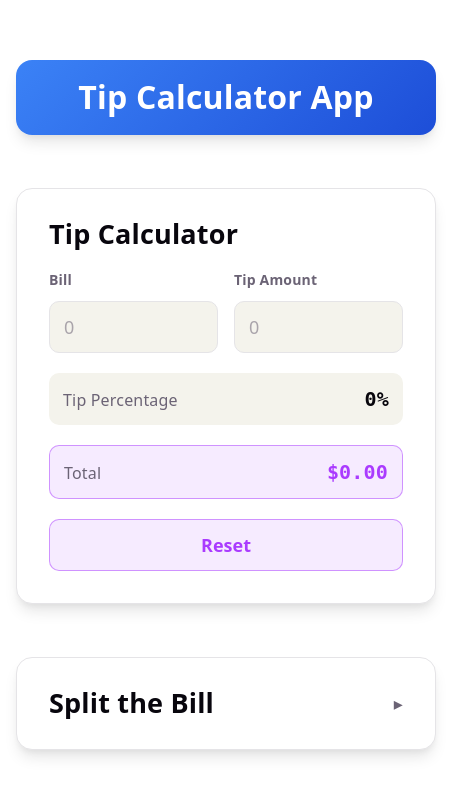
Test: App › recalculates per-person amounts when the number of people changes
The width and height of the screenshot is (453, 795).
Type "100" into the field labelled "Bill" at (134, 327), box [49,301,218,353]
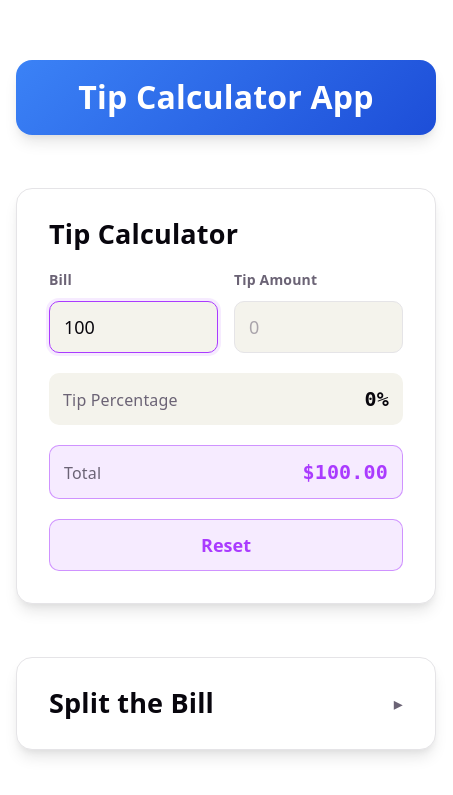
Type "20" into the field labelled "Tip Amount" at (318, 327), box [234,301,403,353]
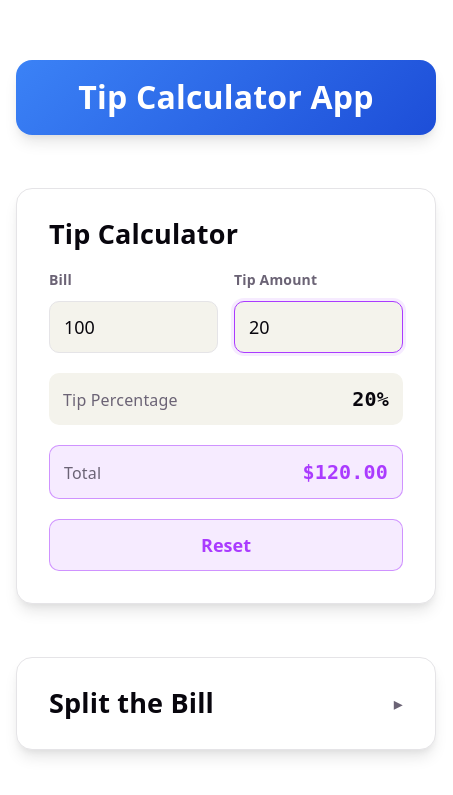
Click the heading "Split the Bill" at (132, 703), box [49,684,214,721]
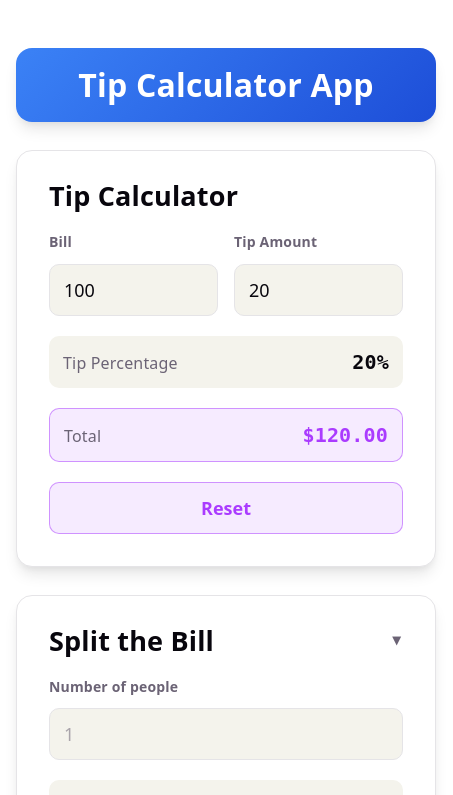
Type "4" into the field labelled "Number of people" at (226, 734), box [49,708,403,760]
(page scrolled)
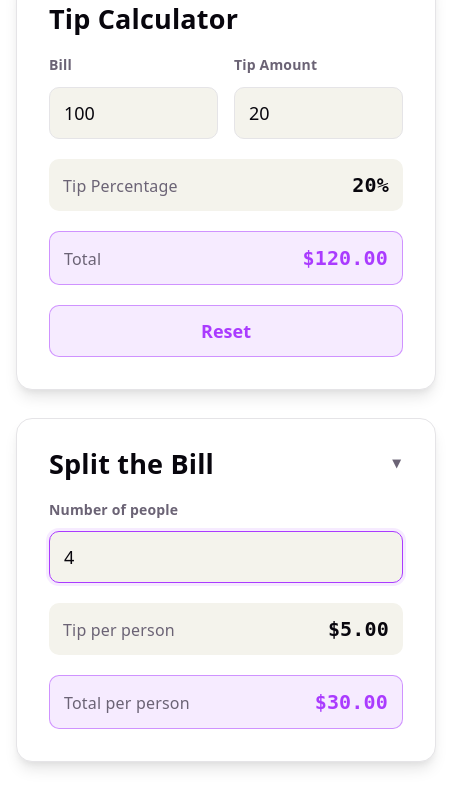
Now the text "$5.00" is shown, box [328,615,389,643]
Now the text "$30.00" is shown, box [315,688,388,716]
